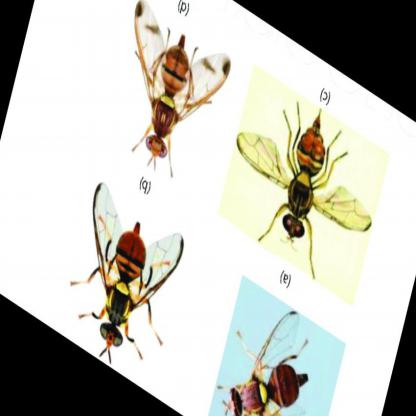fruit fly: (237, 108, 372, 270), (88, 182, 185, 348), (134, 4, 233, 157)
